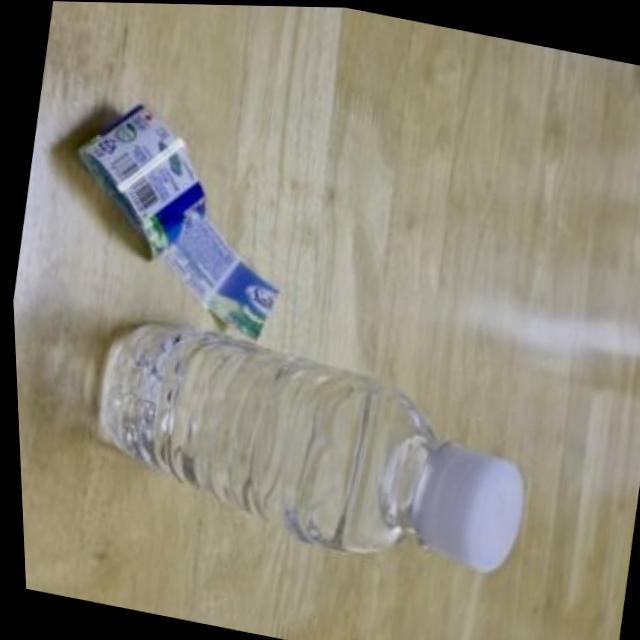anorganik: (54, 291, 549, 611)
